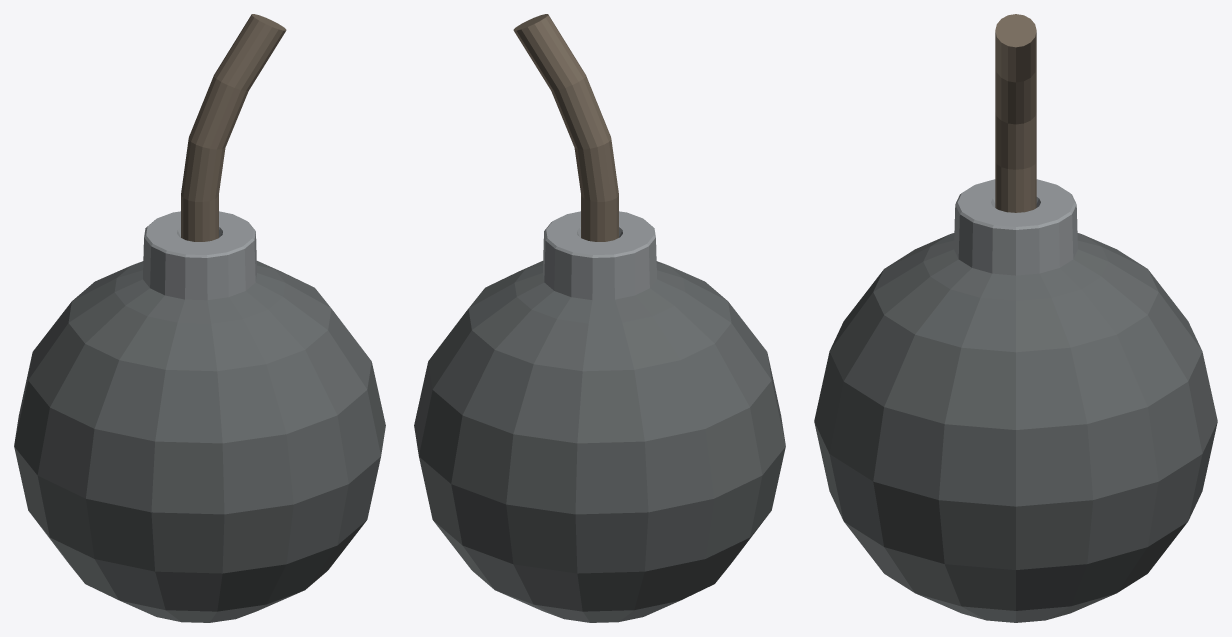
Rendered from SM_Bomb_05.fbx.
3 views of the same model, side by side, from view 1: azimuth 30°, elevation 25°; view 2: azimuth 150°, elevation 25°; view 3: azimuth 270°, elevation 25° (orthographic). The views are drawn at different scales.
Parts seen in each view (by area): view 1: SM_Bomb_05; view 2: SM_Bomb_05; view 3: SM_Bomb_05.
Boxes of the visible parts, bbox=[...] form: SM_Bomb_05: bbox=[14, 14, 385, 622]; SM_Bomb_05: bbox=[414, 14, 785, 622]; SM_Bomb_05: bbox=[814, 14, 1217, 622].
Bounding box in the file's own units: 3.21 × 5.46 × 3.21.
Materials: 1 (1 with a texture image).
